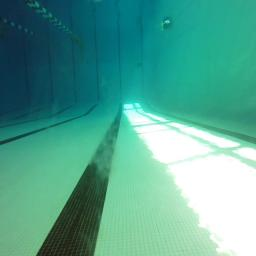Full: (136, 62, 142, 67)
front: (161, 16, 174, 31)
